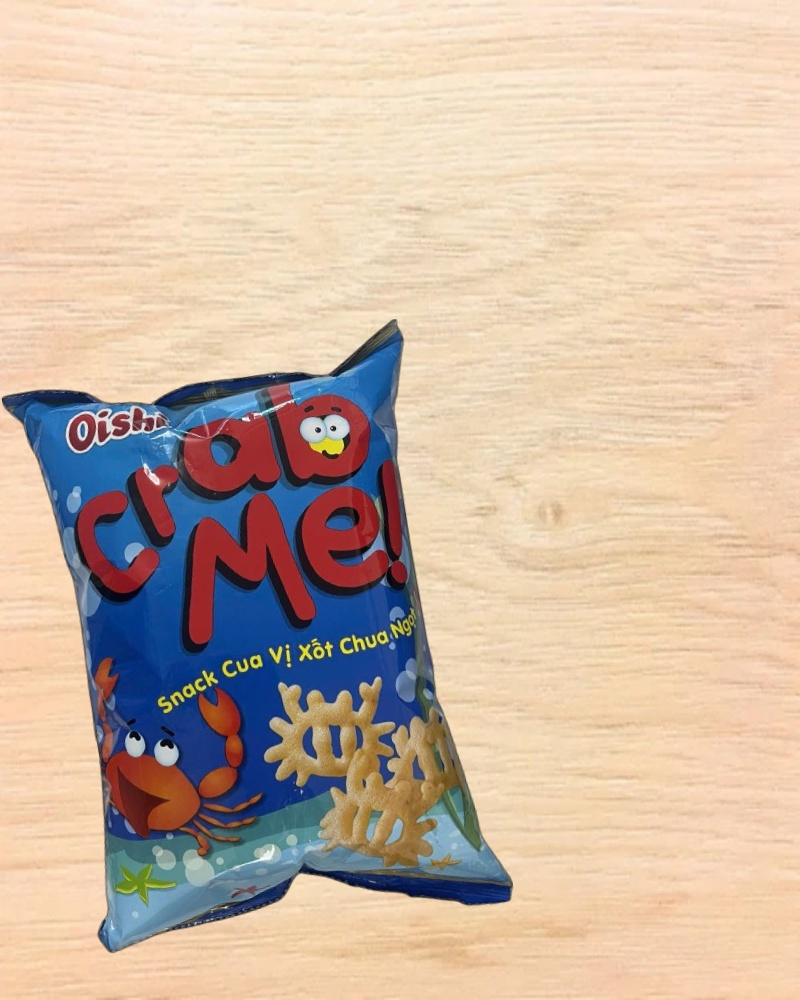Snack cua: (1, 317, 515, 967)
